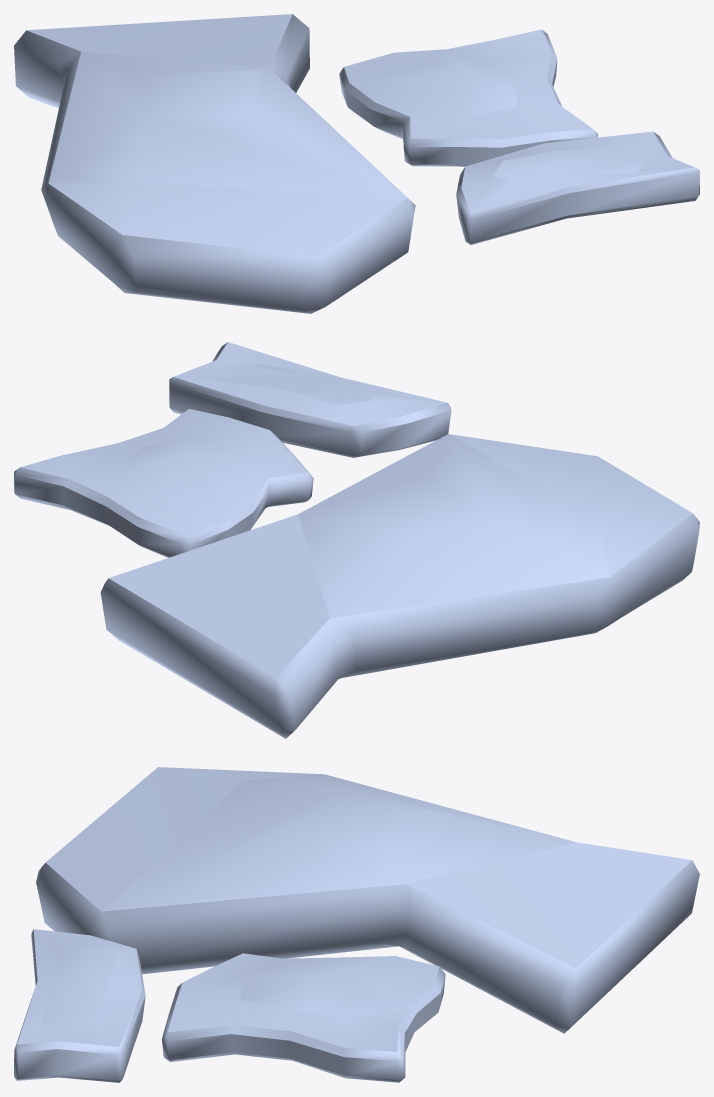
Rendered from floe7.fbx.
The picture shows the model from 3 angles, top to bottom: view 1: azimuth 30°, elevation 25°; view 2: azimuth 150°, elevation 25°; view 3: azimuth 270°, elevation 25°; orthographic projection. The views are drawn at different scales.
Visible parts, largest first — view 1: Plane.025, Plane.024, Plane.026; view 2: Plane.025, Plane.024, Plane.026; view 3: Plane.025, Plane.024, Plane.026.
Part boxes in pixels (box(x1,y1,x2,y2)): Plane.025: box(14, 14, 415, 313); Plane.024: box(339, 29, 597, 166); Plane.026: box(456, 131, 699, 244); Plane.025: box(100, 434, 699, 738); Plane.024: box(14, 409, 313, 557); Plane.026: box(169, 342, 451, 457); Plane.025: box(36, 767, 699, 1033); Plane.024: box(162, 953, 445, 1082); Plane.026: box(14, 929, 145, 1082).
Bounding box in the file's own units: 372 × 73.56 × 376.
